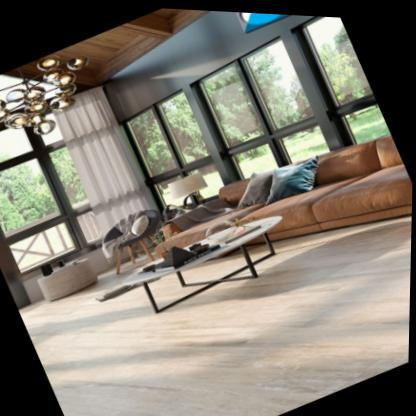Wooden floor: (21, 212, 413, 416)
